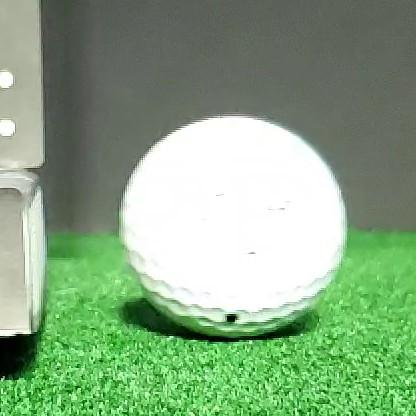golfball: (119, 116, 346, 339)
